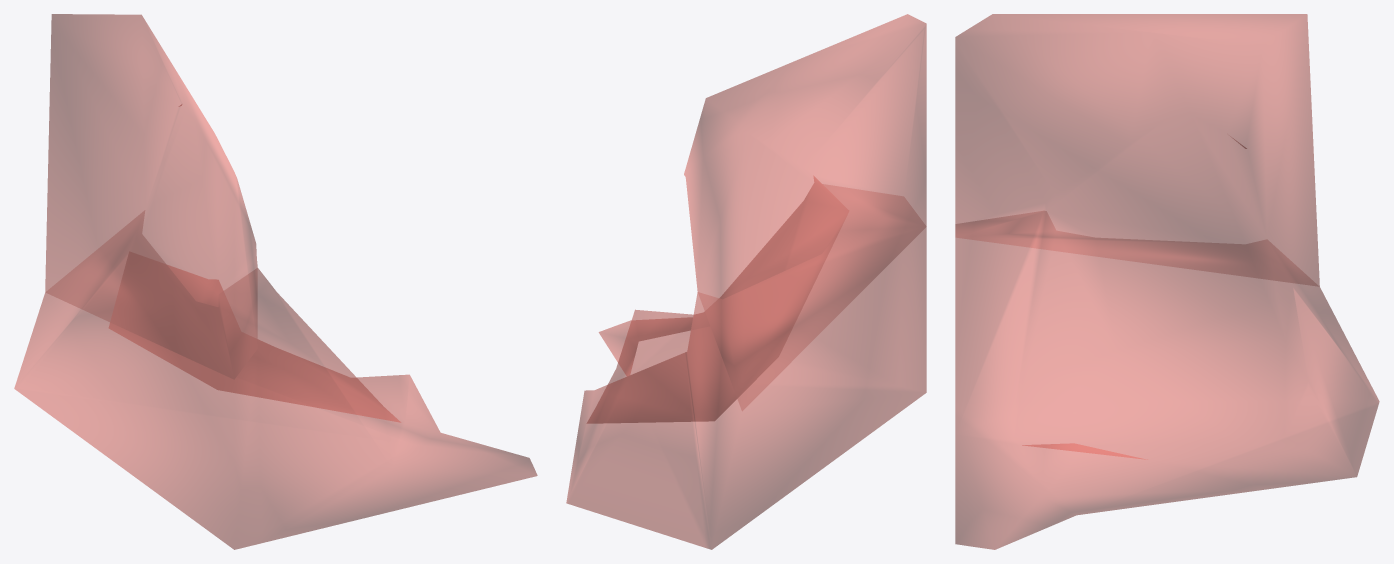
Rendered from Part3_001_Bogdan.fbx.
3 views of the same model, side by side, from view 1: azimuth 30°, elevation 25°; view 2: azimuth 150°, elevation 25°; view 3: azimuth 270°, elevation 25° (orthographic). The views are drawn at different scales.
Parts seen in each view (by area): view 1: Part3.001; view 2: Part3.001; view 3: Part3.001.
Part boxes in pixels (bbox=[...]): Part3.001: bbox=[14, 14, 537, 549]; Part3.001: bbox=[566, 14, 926, 549]; Part3.001: bbox=[955, 14, 1379, 549].
Bounding box in the file's own units: 49.3 × 60 × 59.54.
